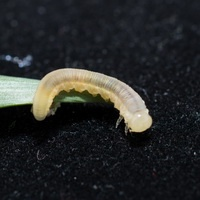insect: (3, 68, 151, 131)
